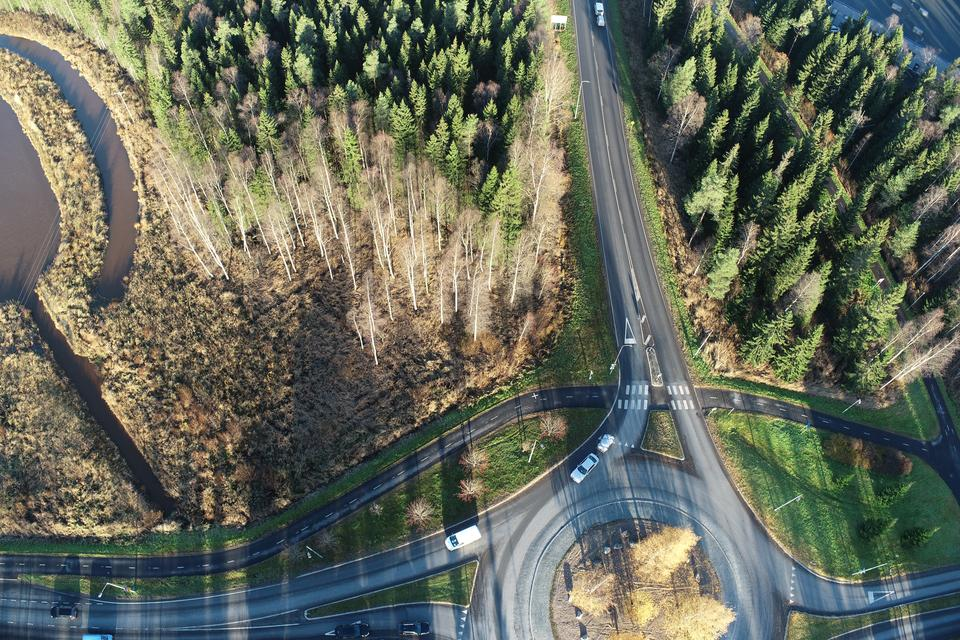intersection: (591, 374, 732, 423)
roundabout: (441, 430, 887, 640)
